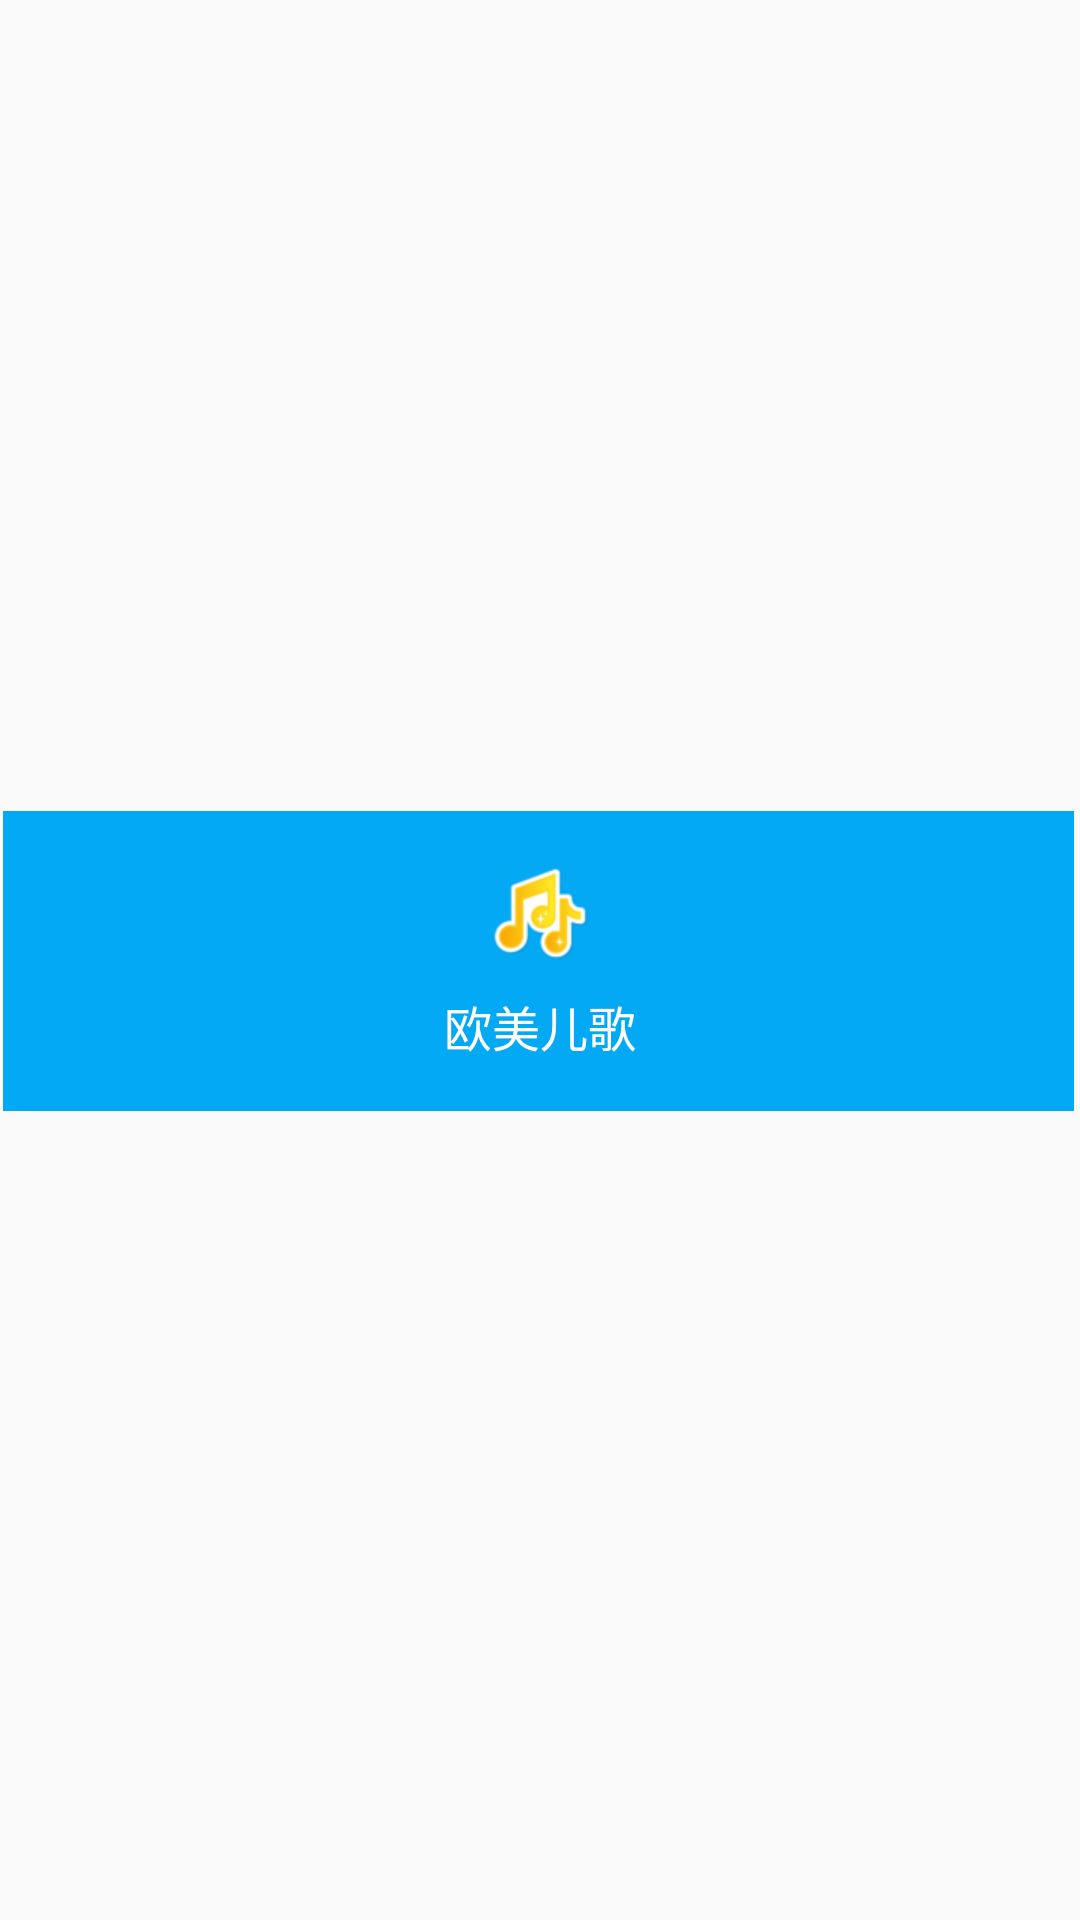

Named icons in this screenshot (1080×1920) and their bounding boxes, (x1, y1, x2, y2):
children music: (494, 868, 586, 958)
